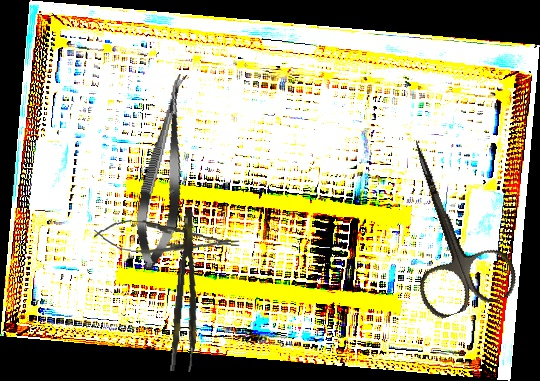Iris Scissors: (372, 125, 522, 324)
Micro Scissor: (128, 71, 201, 272)
Needle Holder: (92, 216, 242, 262)
Tissue Forceps: (168, 209, 208, 373)
